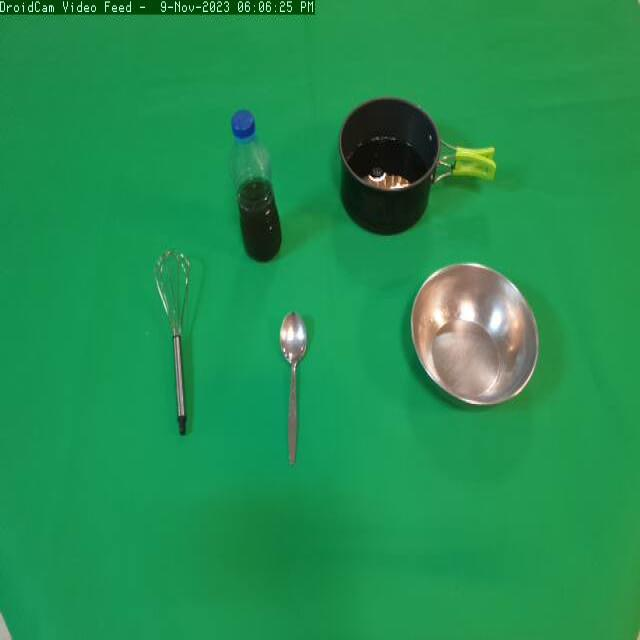bowl: (406, 254, 545, 414)
fullbottle: (223, 105, 287, 276)
fullpot: (334, 88, 504, 244)
spoon: (274, 305, 320, 474)
whisk: (151, 244, 217, 451)
